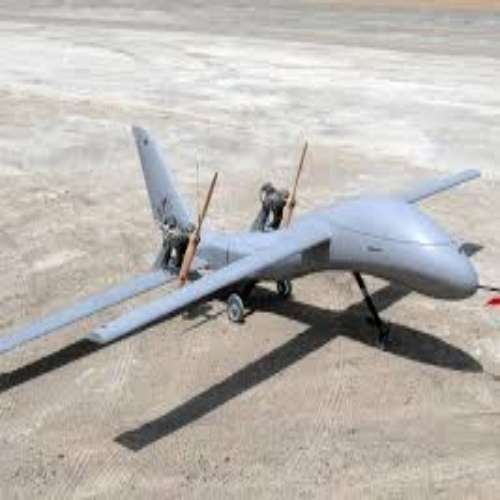uav198: (3, 125, 486, 352)
